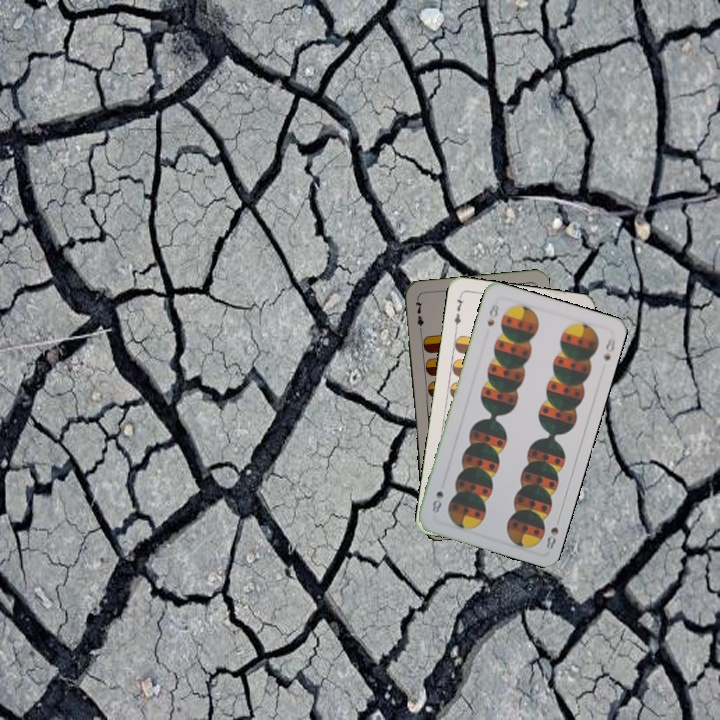E7: (450, 291, 467, 332), (411, 296, 426, 336)
S8: (542, 512, 563, 552), (483, 300, 501, 329)
